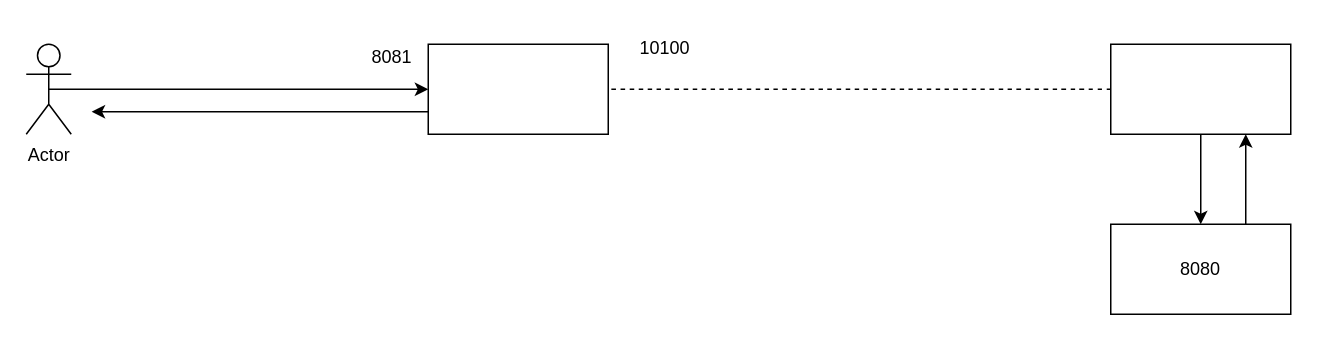
Image size: 1317x341. Some labels were removed from this diagram. Here are the shapes that lost their labels. From the top down, the centre of each, then its label:
pixel 517 88: SERVER
pixel 1200 88: CLIENT
